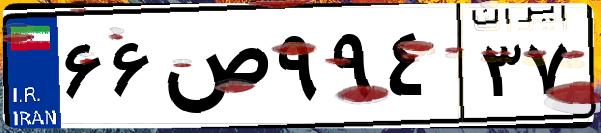3: (475, 38, 525, 113)
4: (385, 28, 445, 110)
6: (57, 26, 110, 100), (110, 28, 158, 98)
7: (525, 38, 570, 115)
9: (270, 28, 330, 110), (330, 28, 385, 110)
ص: (158, 20, 270, 120)
